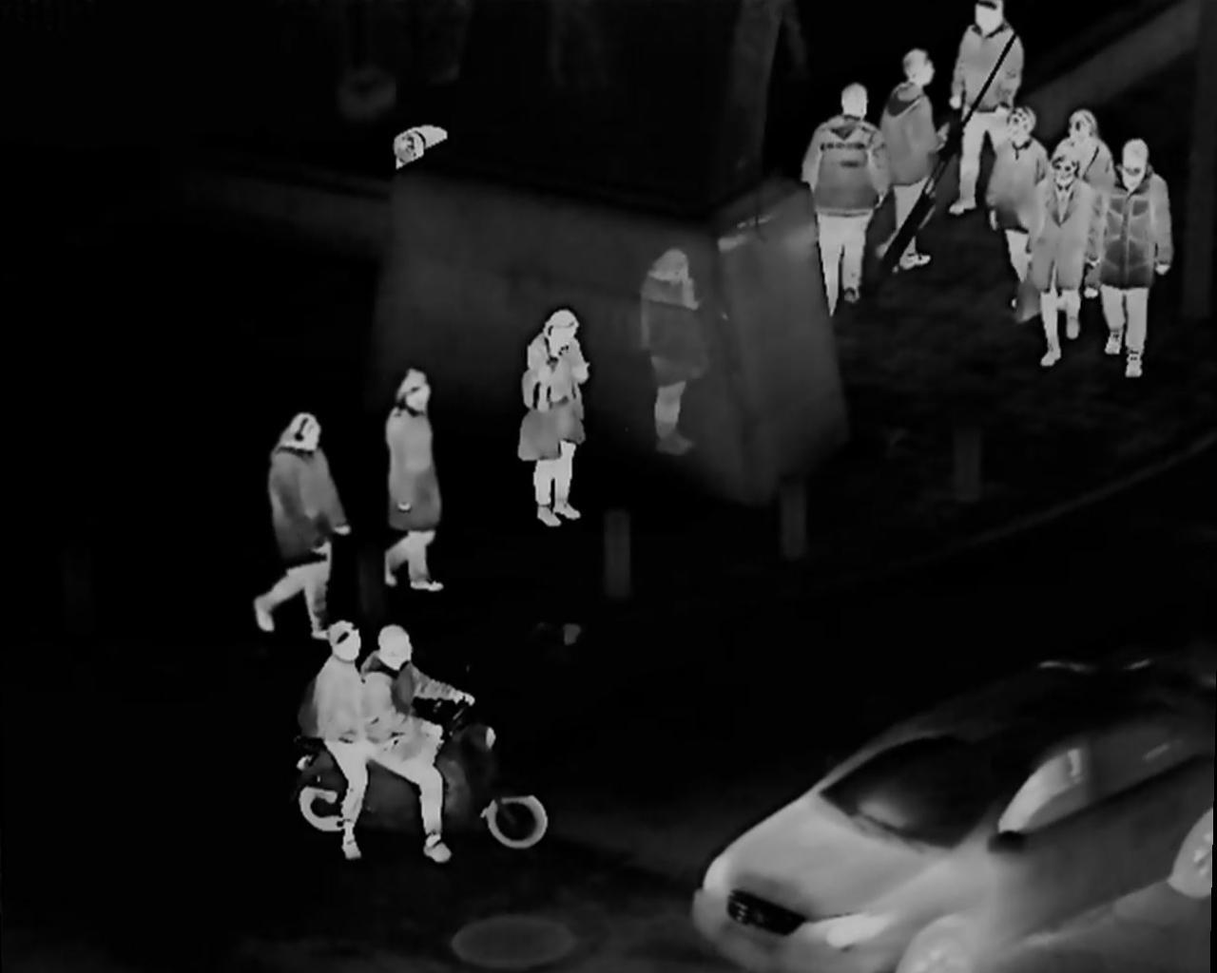person: (261, 413, 353, 618), (356, 639, 454, 827), (299, 627, 377, 858), (811, 87, 890, 315), (1091, 135, 1158, 386), (527, 305, 606, 514), (954, 5, 1024, 209), (389, 360, 450, 586), (1025, 149, 1098, 330), (888, 47, 935, 291), (988, 99, 1031, 267), (1059, 99, 1104, 211)
